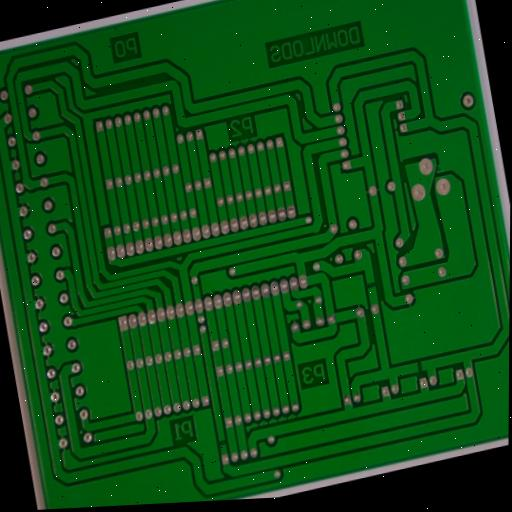open_circuit: (363, 277, 378, 293), (412, 358, 426, 375), (216, 435, 228, 451)
